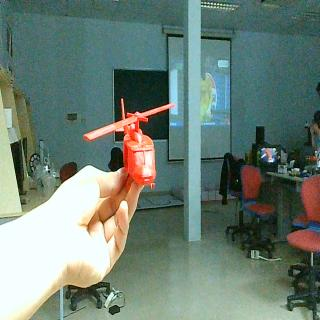Helicopter: (82, 96, 175, 190)
